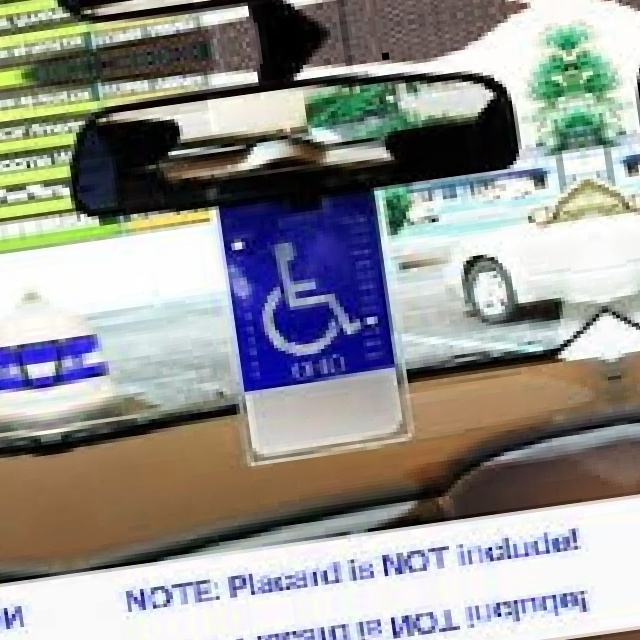ISA: (251, 232, 366, 359)
